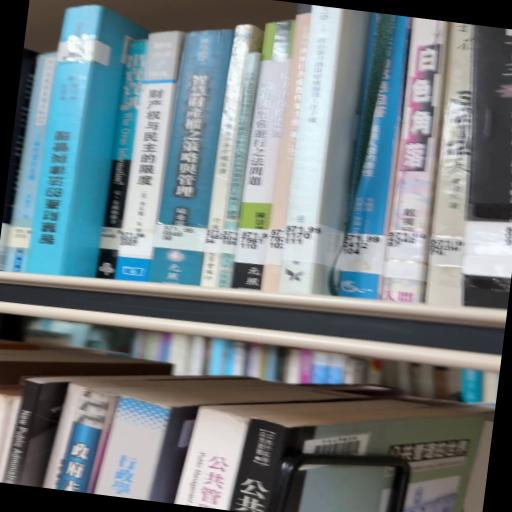reverse: (26, 6, 149, 278)
